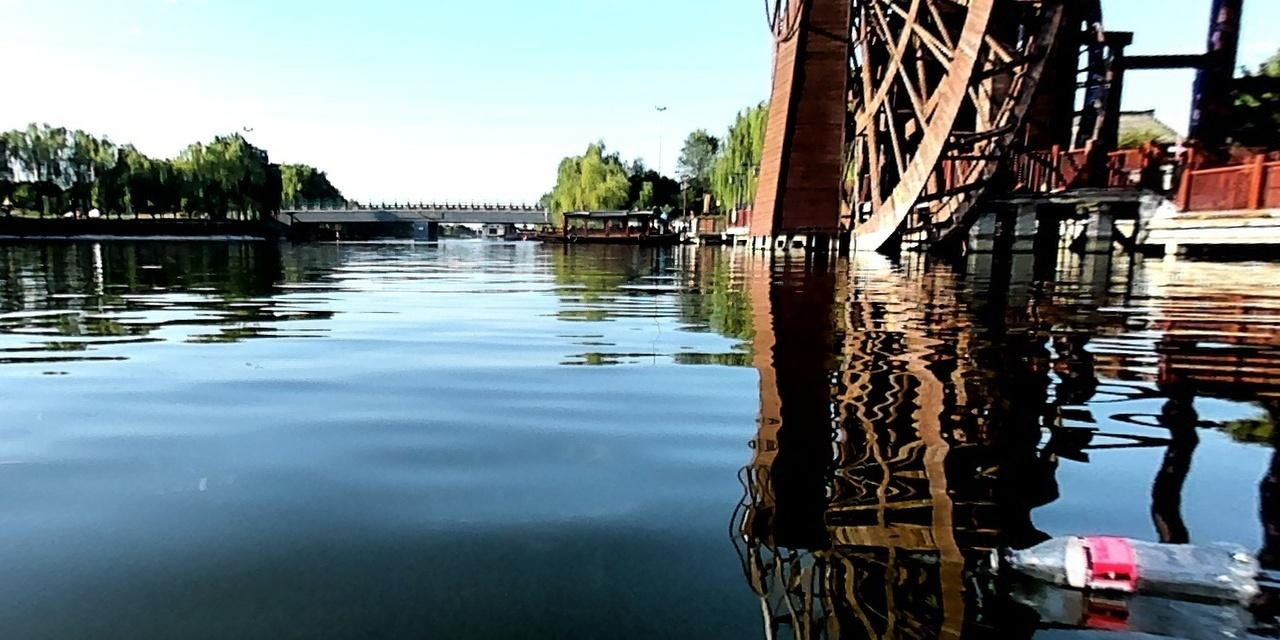bottle: (984, 525, 1263, 608)
